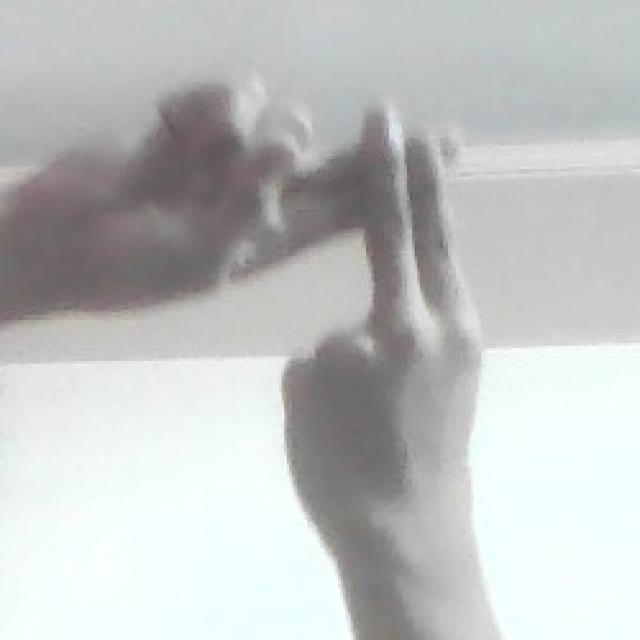Alphabet-F: (28, 75, 510, 517)
